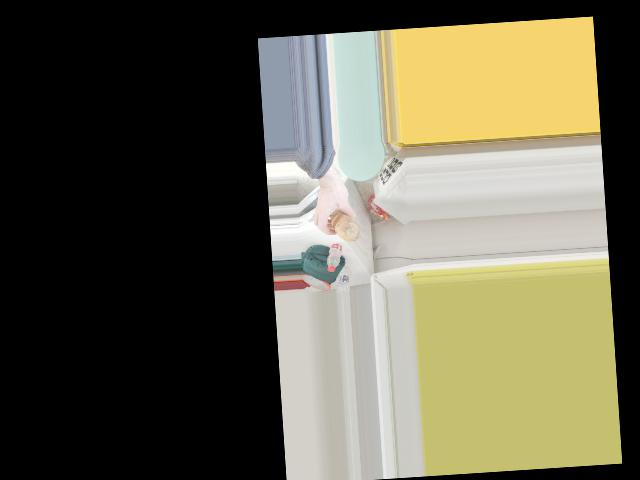sweet_potato: (330, 208, 359, 243)
